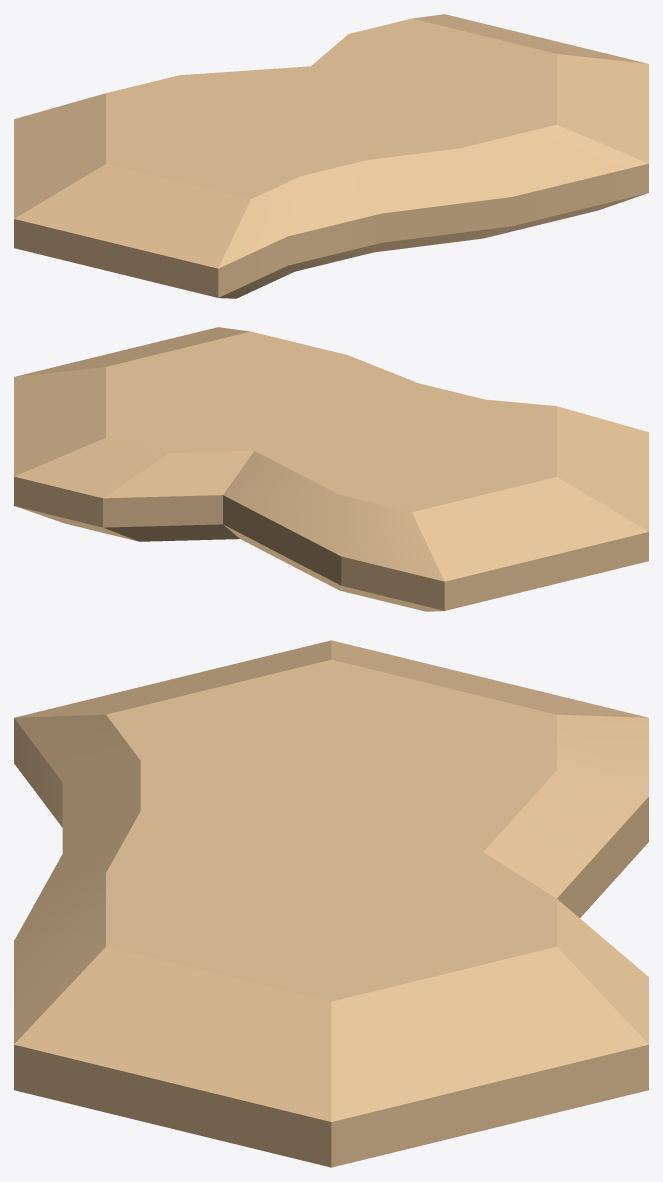
File: pietra10.fbx
3 views of the same model, one above another, from view 1: azimuth 30°, elevation 25°; view 2: azimuth 150°, elevation 25°; view 3: azimuth 270°, elevation 25° (orthographic). The views are drawn at different scales.
Parts seen in each view (by area): view 1: Rock_Large_Flat_Dirt_01; view 2: Rock_Large_Flat_Dirt_01; view 3: Rock_Large_Flat_Dirt_01.
Part boxes in pixels (bbox=[...]): Rock_Large_Flat_Dirt_01: bbox=[14, 14, 648, 298]; Rock_Large_Flat_Dirt_01: bbox=[14, 327, 648, 611]; Rock_Large_Flat_Dirt_01: bbox=[14, 640, 648, 1167].
Size of the model in its own units: 593 by 74.14 by 331.
